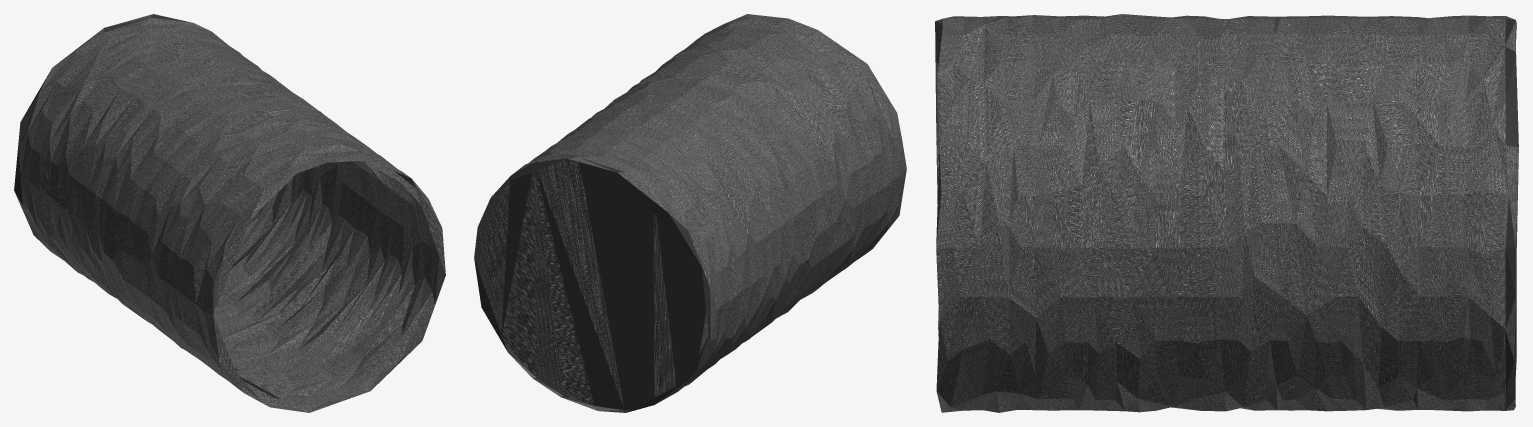
File: model_align.obj
3 views of the same model, side by side, from view 1: azimuth 30°, elevation 25°; view 2: azimuth 150°, elevation 25°; view 3: azimuth 270°, elevation 25° (orthographic). The views are drawn at different scales.
Size of the model in its own units: 0.0799 by 0.0799 by 0.1176.
